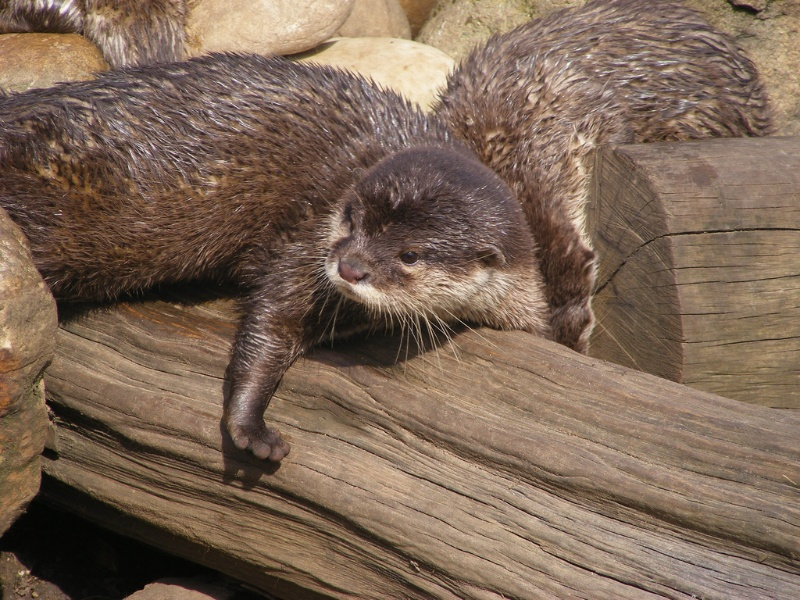minkish: (320, 11, 754, 350)
